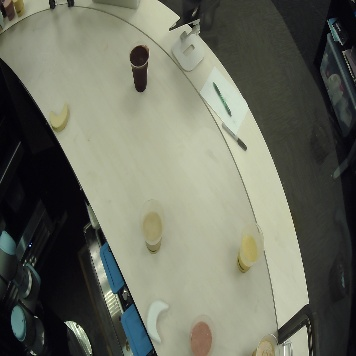full_cup: (138, 201, 165, 252), (235, 224, 262, 274), (189, 315, 215, 356), (129, 45, 149, 92), (252, 333, 280, 356), (1, 1, 15, 22), (12, 1, 25, 18)
puck: (145, 297, 170, 342), (49, 103, 69, 132)
